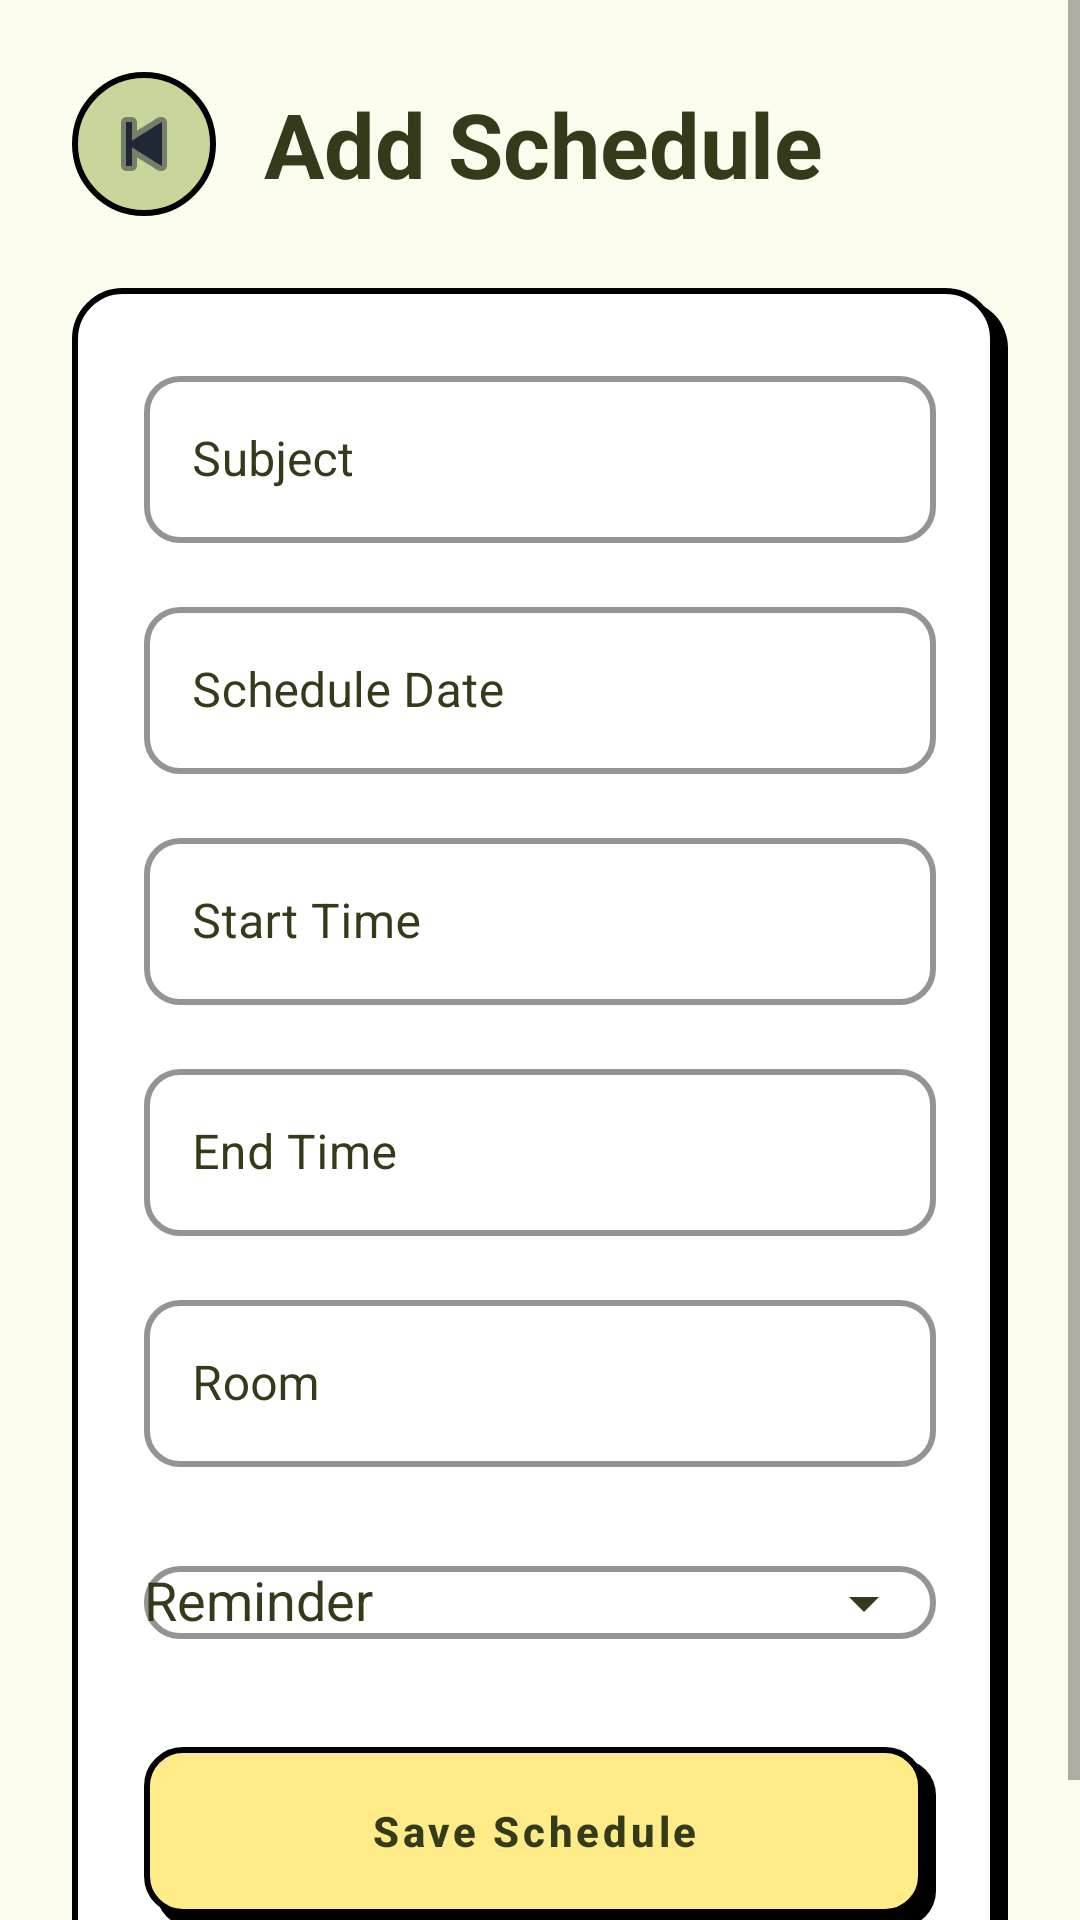

Locate icon controls on the screen. Image size 1080 x 1920, boxes as [x1=x1, y1=y1, x2=x2, y2=y2].
Back: [x1=72, y1=72, x2=216, y2=216]
